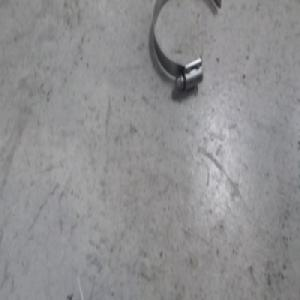AdjustableClamp: (154, 1, 221, 91)
